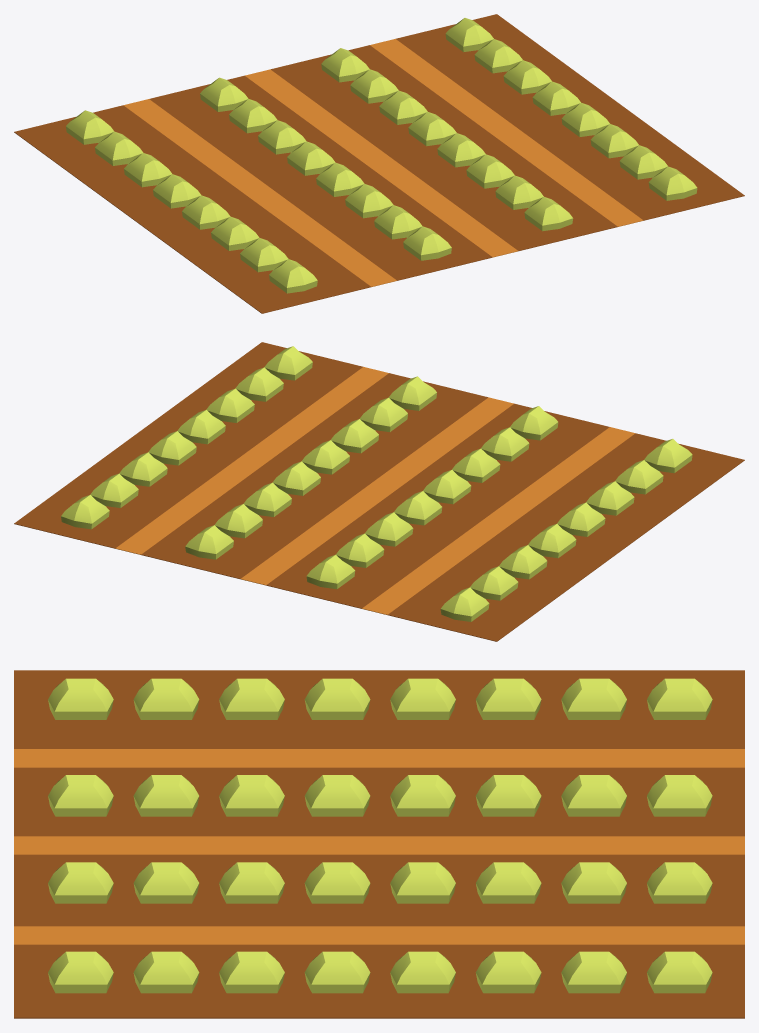
Rendered from salad.fbx.
3 renders of one model, top to bottom at view 1: azimuth 30°, elevation 25°; view 2: azimuth 150°, elevation 25°; view 3: azimuth 270°, elevation 25°, orthographic. The views are drawn at different scales.
Parts seen in each view (by area): view 1: tomates.005; view 2: tomates.005; view 3: tomates.005.
Boxes of the visible parts, box(x1,y1,x2,y2) form: tomates.005: box(14, 14, 744, 313); tomates.005: box(14, 342, 744, 641); tomates.005: box(14, 670, 744, 1018).
Size of the model in its own units: 10.99 by 9.77 by 0.5343.
